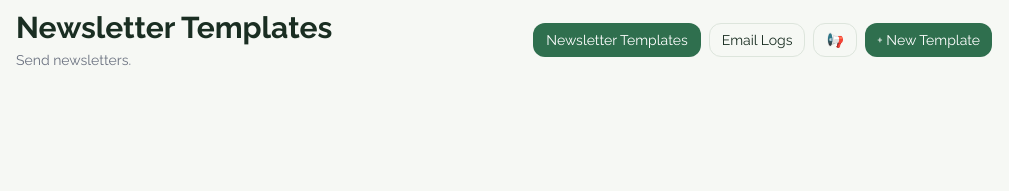
Scenario: NewsletterPage (template UI) › shows logs error when email logs API fails
The image size is (1009, 191).
Click the button with test id "logs-tab-btn": click(757, 40) [709,23,805,57]
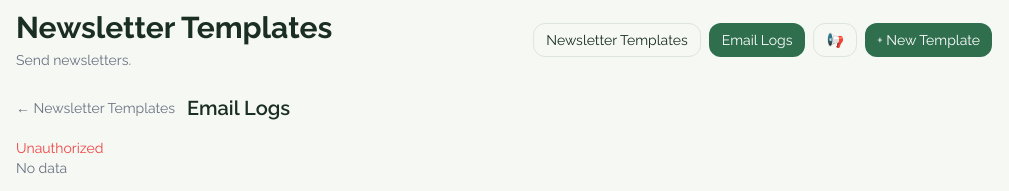
Expected: the text with test id "logs-error" reads "Unauthorized", [16,140,103,156]
